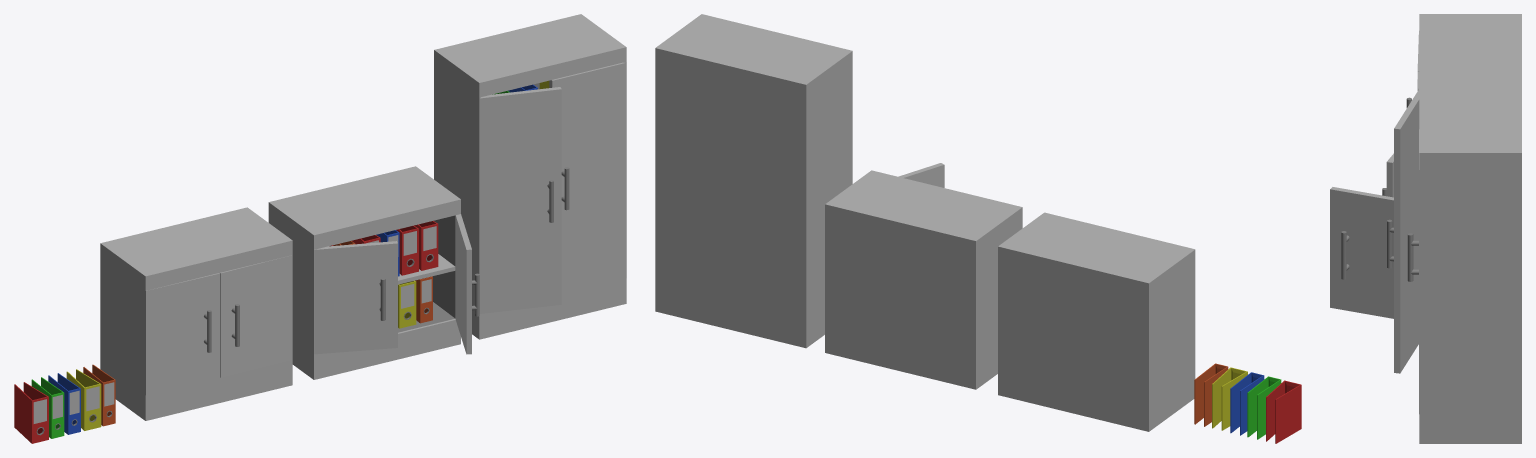
Rendered from OfficeCupboardsModels.FBX.
3 renders of one model, left to right at view 1: azimuth 30°, elevation 25°; view 2: azimuth 150°, elevation 25°; view 3: azimuth 270°, elevation 25°, orthographic. The views are drawn at different scales.
Visible parts, largest first — view 1: OfficeCupboard1, OfficeCupboard3, OfficeCupboard2, BigFolder003, BigFolder004, SmallFolder003, SmallFolder002, SmallFolder004; view 2: OfficeCupboard1, OfficeCupboard3, OfficeCupboard2, BigFolder003, BigFolder004, SmallFolder002, SmallFolder003, SmallFolder004; view 3: OfficeCupboard1, OfficeCupboard2, OfficeCupboard3.
Part boxes in pixels (x1,y1,x2,y2): OfficeCupboard1: (434,14,626,339); OfficeCupboard3: (100,207,292,420); OfficeCupboard2: (268,166,479,379); BigFolder003: (14,382,48,443); BigFolder004: (66,369,101,430); SmallFolder003: (48,373,80,434); SmallFolder002: (31,377,64,438); SmallFolder004: (83,364,115,426); OfficeCupboard1: (655,14,852,348); OfficeCupboard3: (998,212,1195,431); OfficeCupboard2: (825,163,1022,389); BigFolder003: (1266,380,1301,443); BigFolder004: (1212,367,1247,430); SmallFolder002: (1247,376,1281,439); SmallFolder003: (1230,372,1264,435); SmallFolder004: (1194,363,1228,426); OfficeCupboard1: (1387,71,1521,443); OfficeCupboard2: (1330,153,1393,318); OfficeCupboard3: (1406,14,1521,107).
Size of the model in its own units: 237 by 98.43 by 58.82.
